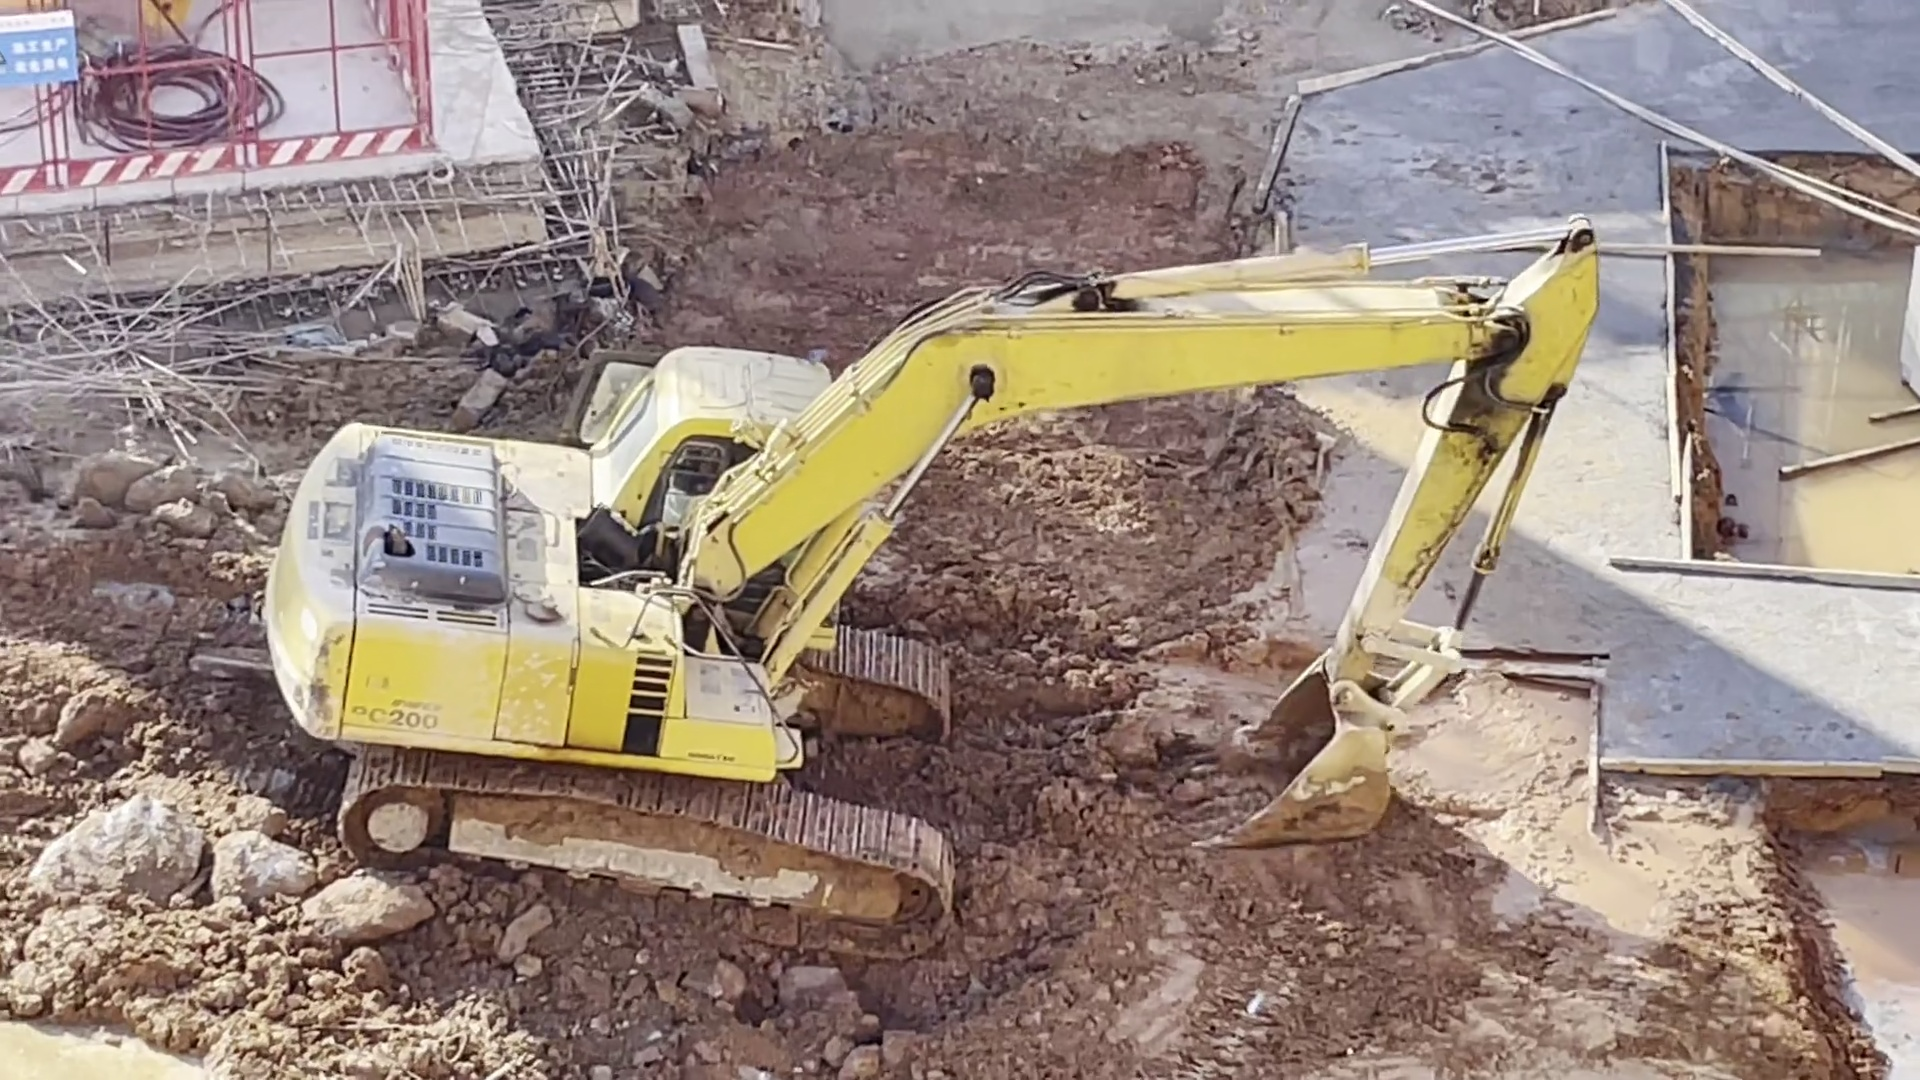slogan: (1, 11, 80, 94)
